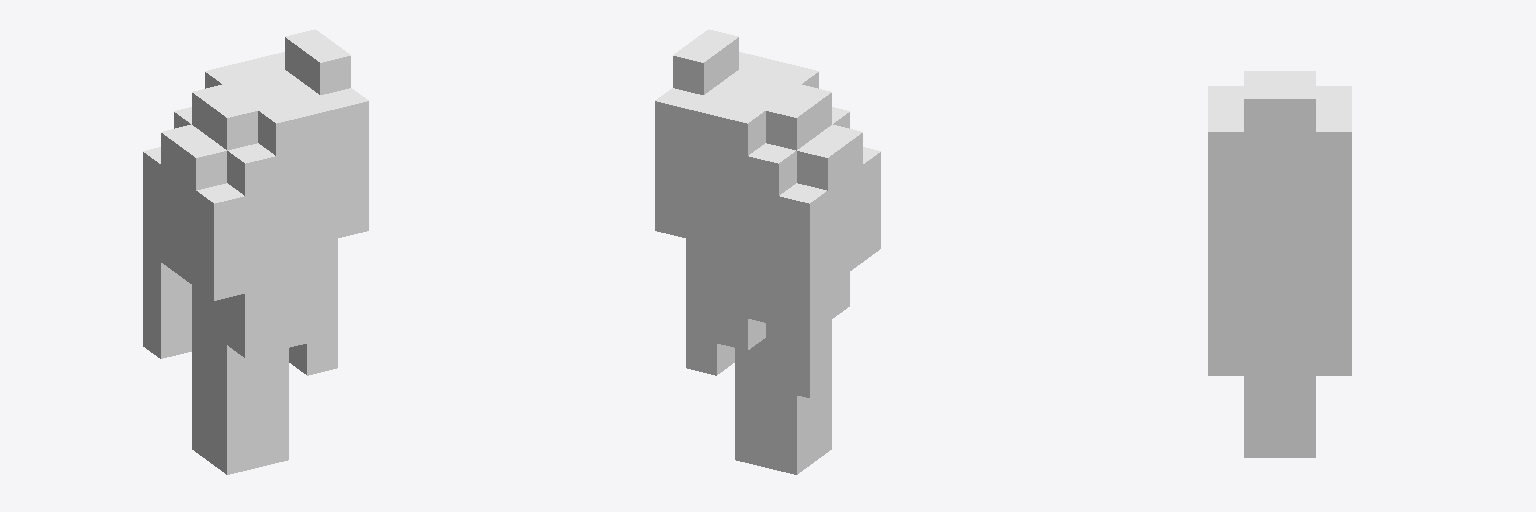
The model's file is EnemySkeleton1-4.obj.
3 renders of one model, left to right at view 1: azimuth 30°, elevation 25°; view 2: azimuth 150°, elevation 25°; view 3: azimuth 270°, elevation 25°, orthographic.
Visible parts, largest first — view 1: object 1; view 2: object 1; view 3: object 1.
Part boxes in pixels (x1,y1,x2,y2): object 1: (143, 29, 368, 474); object 1: (655, 29, 880, 474); object 1: (1208, 71, 1351, 457).
Size of the model in its own units: 0.5 by 1.2 by 0.4.